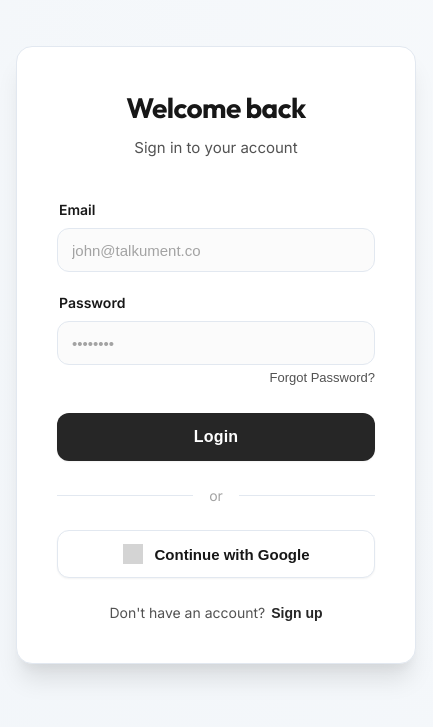
Test: AuthPage › shows network error if no response
The width and height of the screenshot is (433, 727).
Step 1. Type "test@mail.com" into the field with placeholder "john@talkument.co" → (216, 250), box [57, 228, 375, 272]
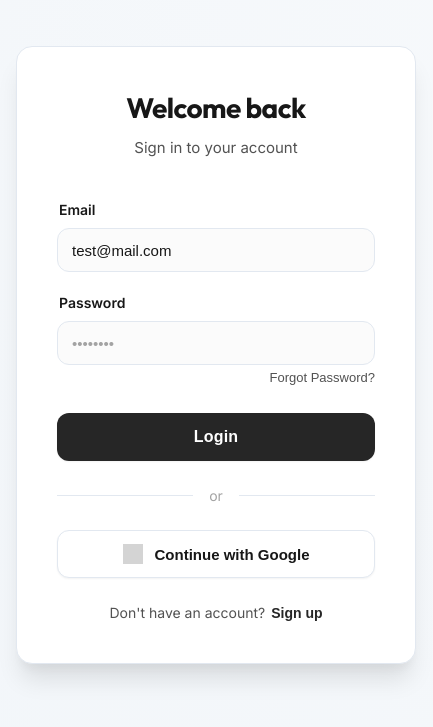
Step 2. Type "123456" into the password field with placeholder "••••••••" → (216, 343), box [57, 321, 375, 365]
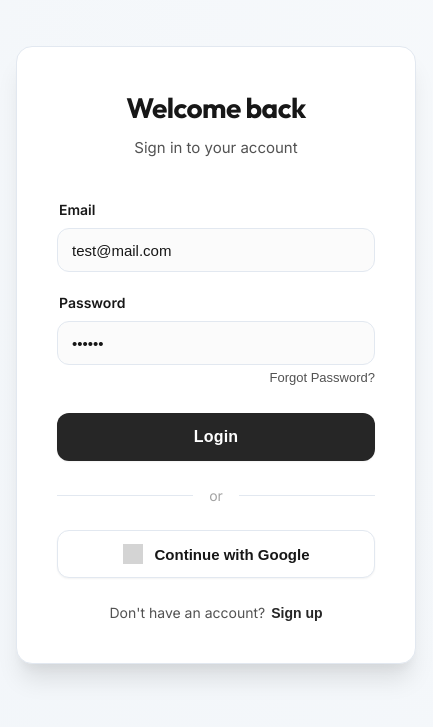
Step 3. Click the button "Login" → (216, 437), box [57, 413, 375, 461]
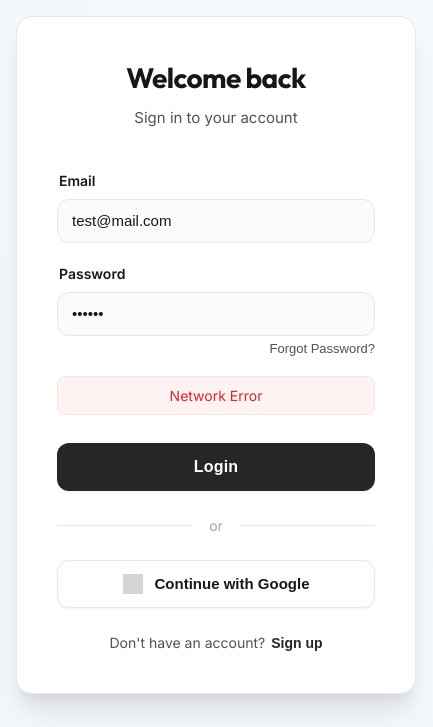
expect the text "Network Error" is shown: met, box [57, 376, 375, 415]
